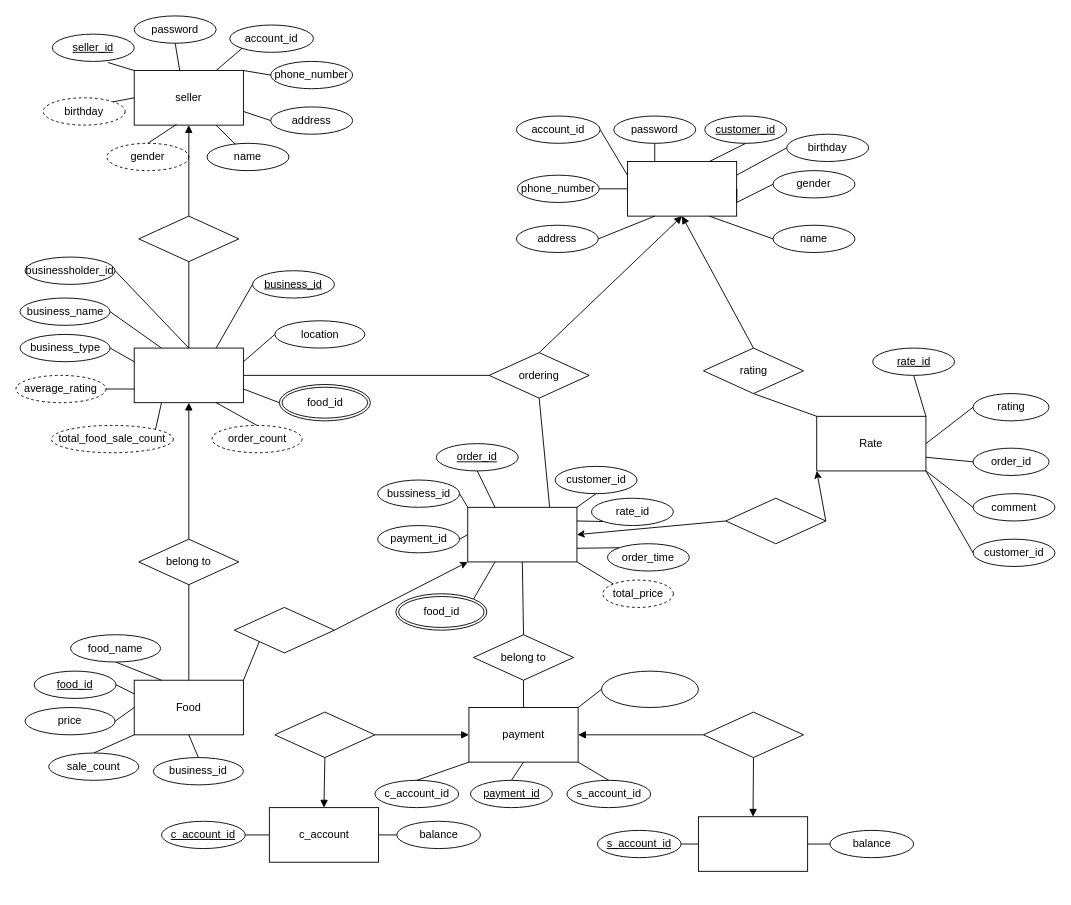
The diagram is 1071 pixels wide and 905 high, and some of its shapes have lost their labels. The box of each missing label's shape, as (x1, y1, x2, y2) in pixels:
bussiness: (133, 347, 243, 403)
contain: (233, 607, 334, 653)
customer: (627, 161, 737, 216)
Order: (467, 506, 577, 562)
own: (138, 215, 239, 262)
pay: (274, 711, 375, 758)
payment_time: (601, 670, 698, 708)
receive: (703, 711, 804, 758)
relate to: (725, 497, 826, 544)
s_account: (698, 816, 808, 871)
